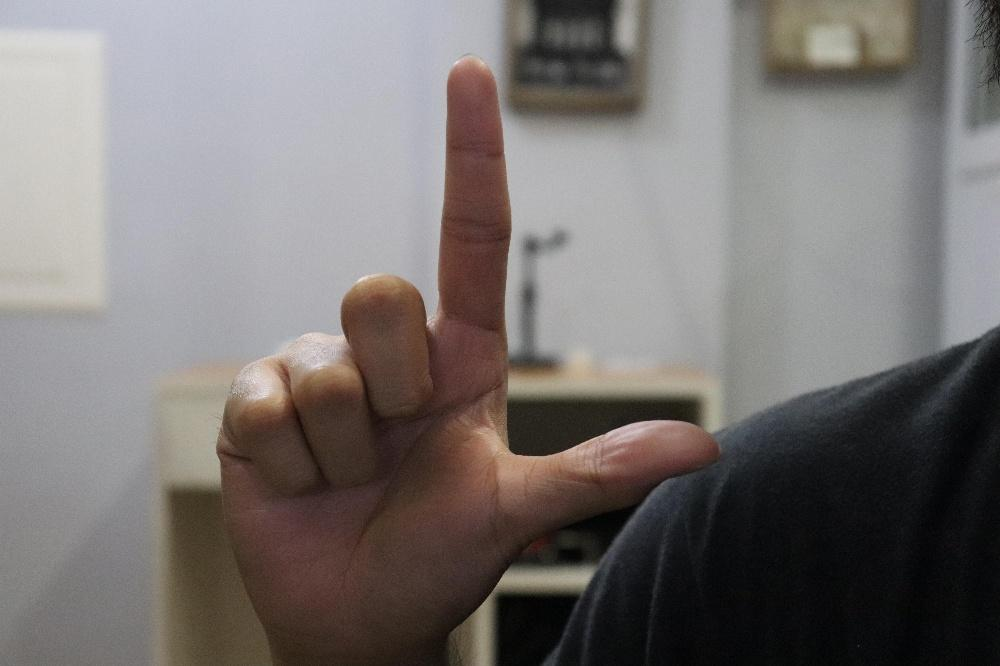l: (214, 53, 720, 652)
